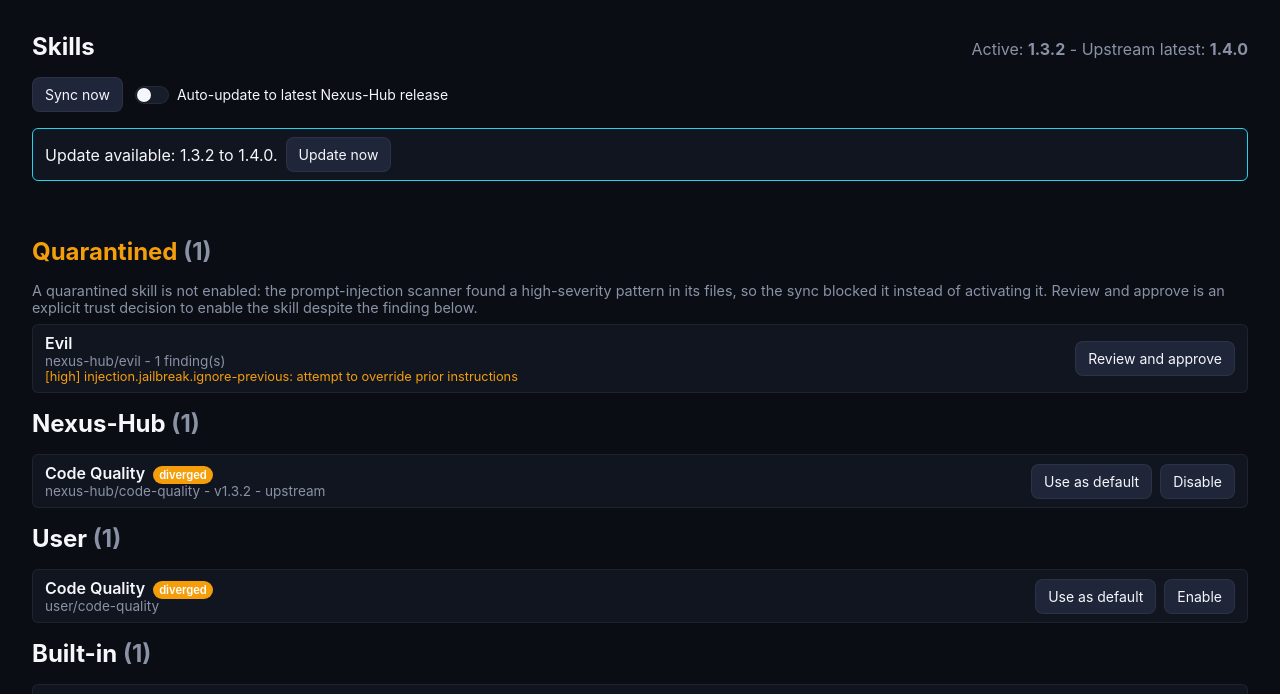
Test case: SkillsSettings › shows Sync blocked plus the summary when the sync did not apply a different tag
The image size is (1280, 694).
Click the button with test id "skills-sync-now". click: (77, 94)
box: 32,77 -> 123,112
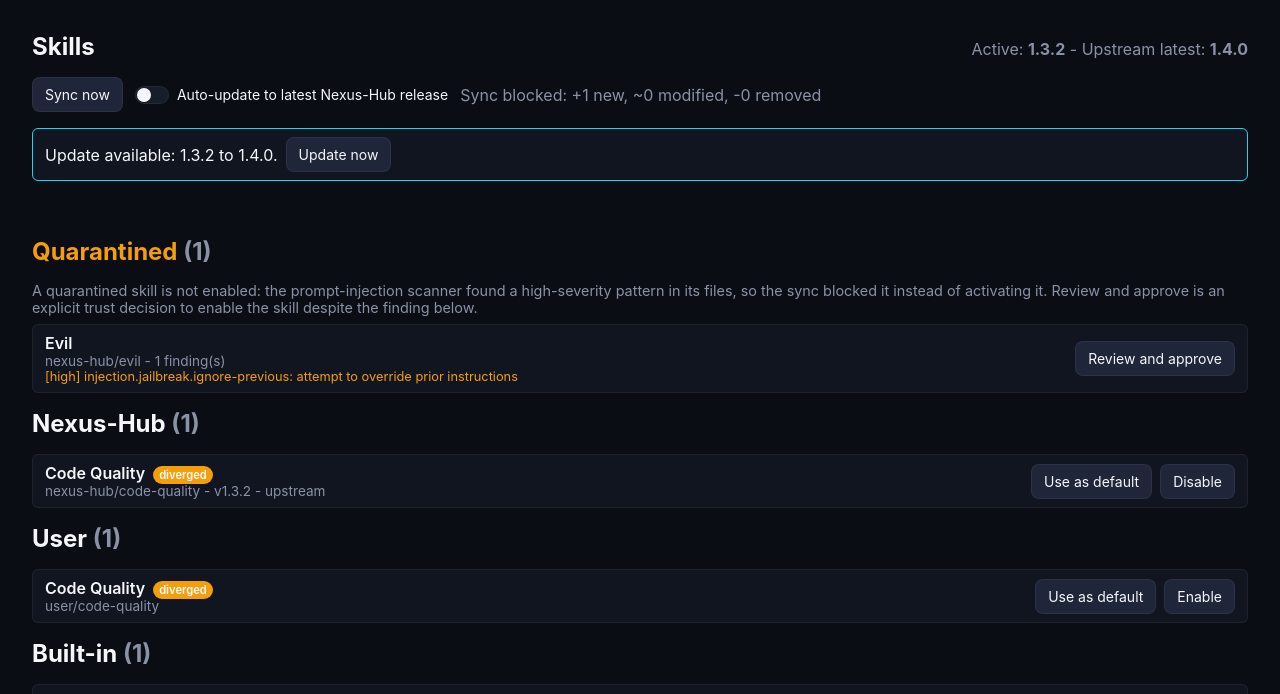
Expected: the text with test id "skills-sync-status" reads "Sync blocked: +1 new, ~0 modified, -0 removed", 460,84 -> 821,104
